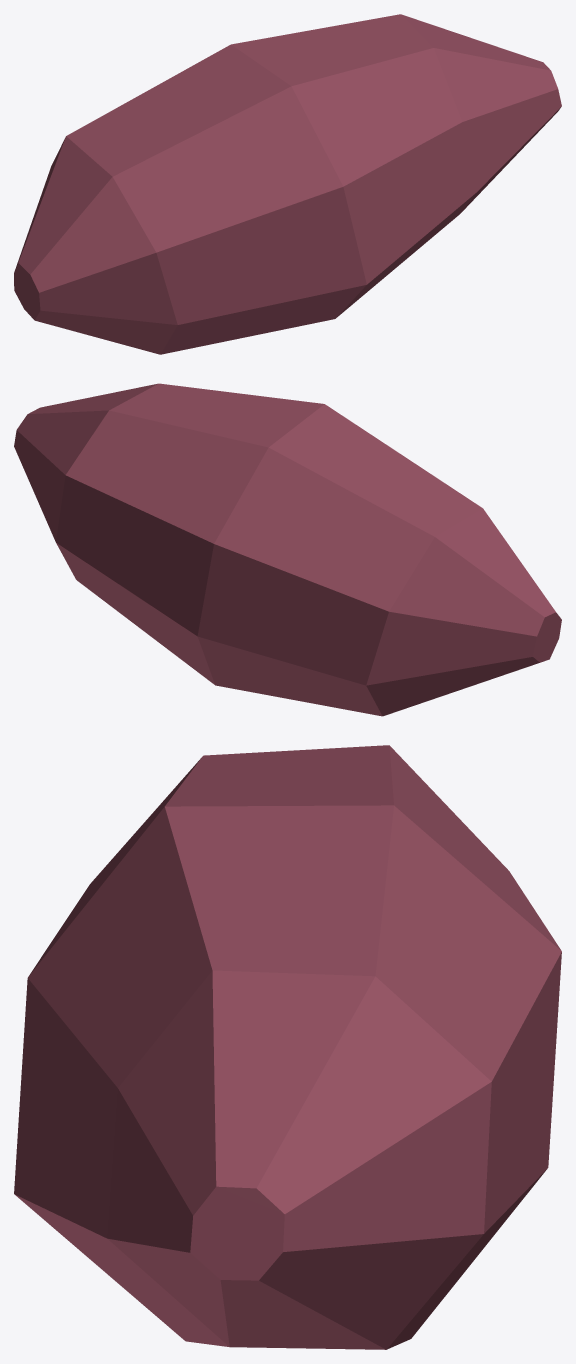
The model's file is sweetPotato02.fbx.
3 renders of one model, top to bottom at view 1: azimuth 30°, elevation 25°; view 2: azimuth 150°, elevation 25°; view 3: azimuth 270°, elevation 25°, orthographic. The views are drawn at different scales.
Visible parts, largest first — view 1: sweetPotato02; view 2: sweetPotato02; view 3: sweetPotato02.
Part boxes in pixels (x1=…): sweetPotato02: x1=14, y1=14, x2=561, y2=354; sweetPotato02: x1=14, y1=383, x2=561, y2=716; sweetPotato02: x1=14, y1=745, x2=561, y2=1349.
Size of the model in its own units: 14.31 by 6.45 by 6.53.
1 material, 1 textured.
